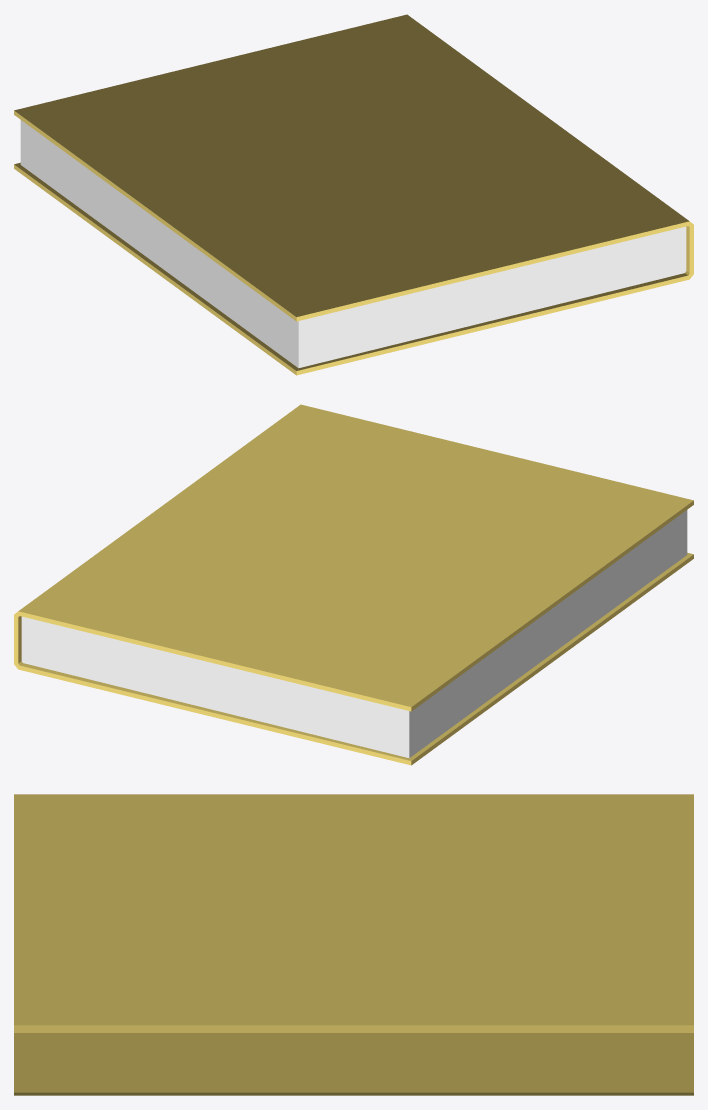
The model's file is Book 6.fbx.
3 renders of one model, top to bottom at view 1: azimuth 30°, elevation 25°; view 2: azimuth 150°, elevation 25°; view 3: azimuth 270°, elevation 25°, orthographic. The views are drawn at different scales.
Visible parts, largest first — view 1: Node 0; view 2: Node 0; view 3: Node 0.
Boxes of the visible parts, <box> form: Node 0: <box>14,14,693,375</box>; Node 0: <box>14,404,693,765</box>; Node 0: <box>14,794,693,1095</box>.
Bounding box in the file's own units: 0.2541 × 0.0289 × 0.2064.
